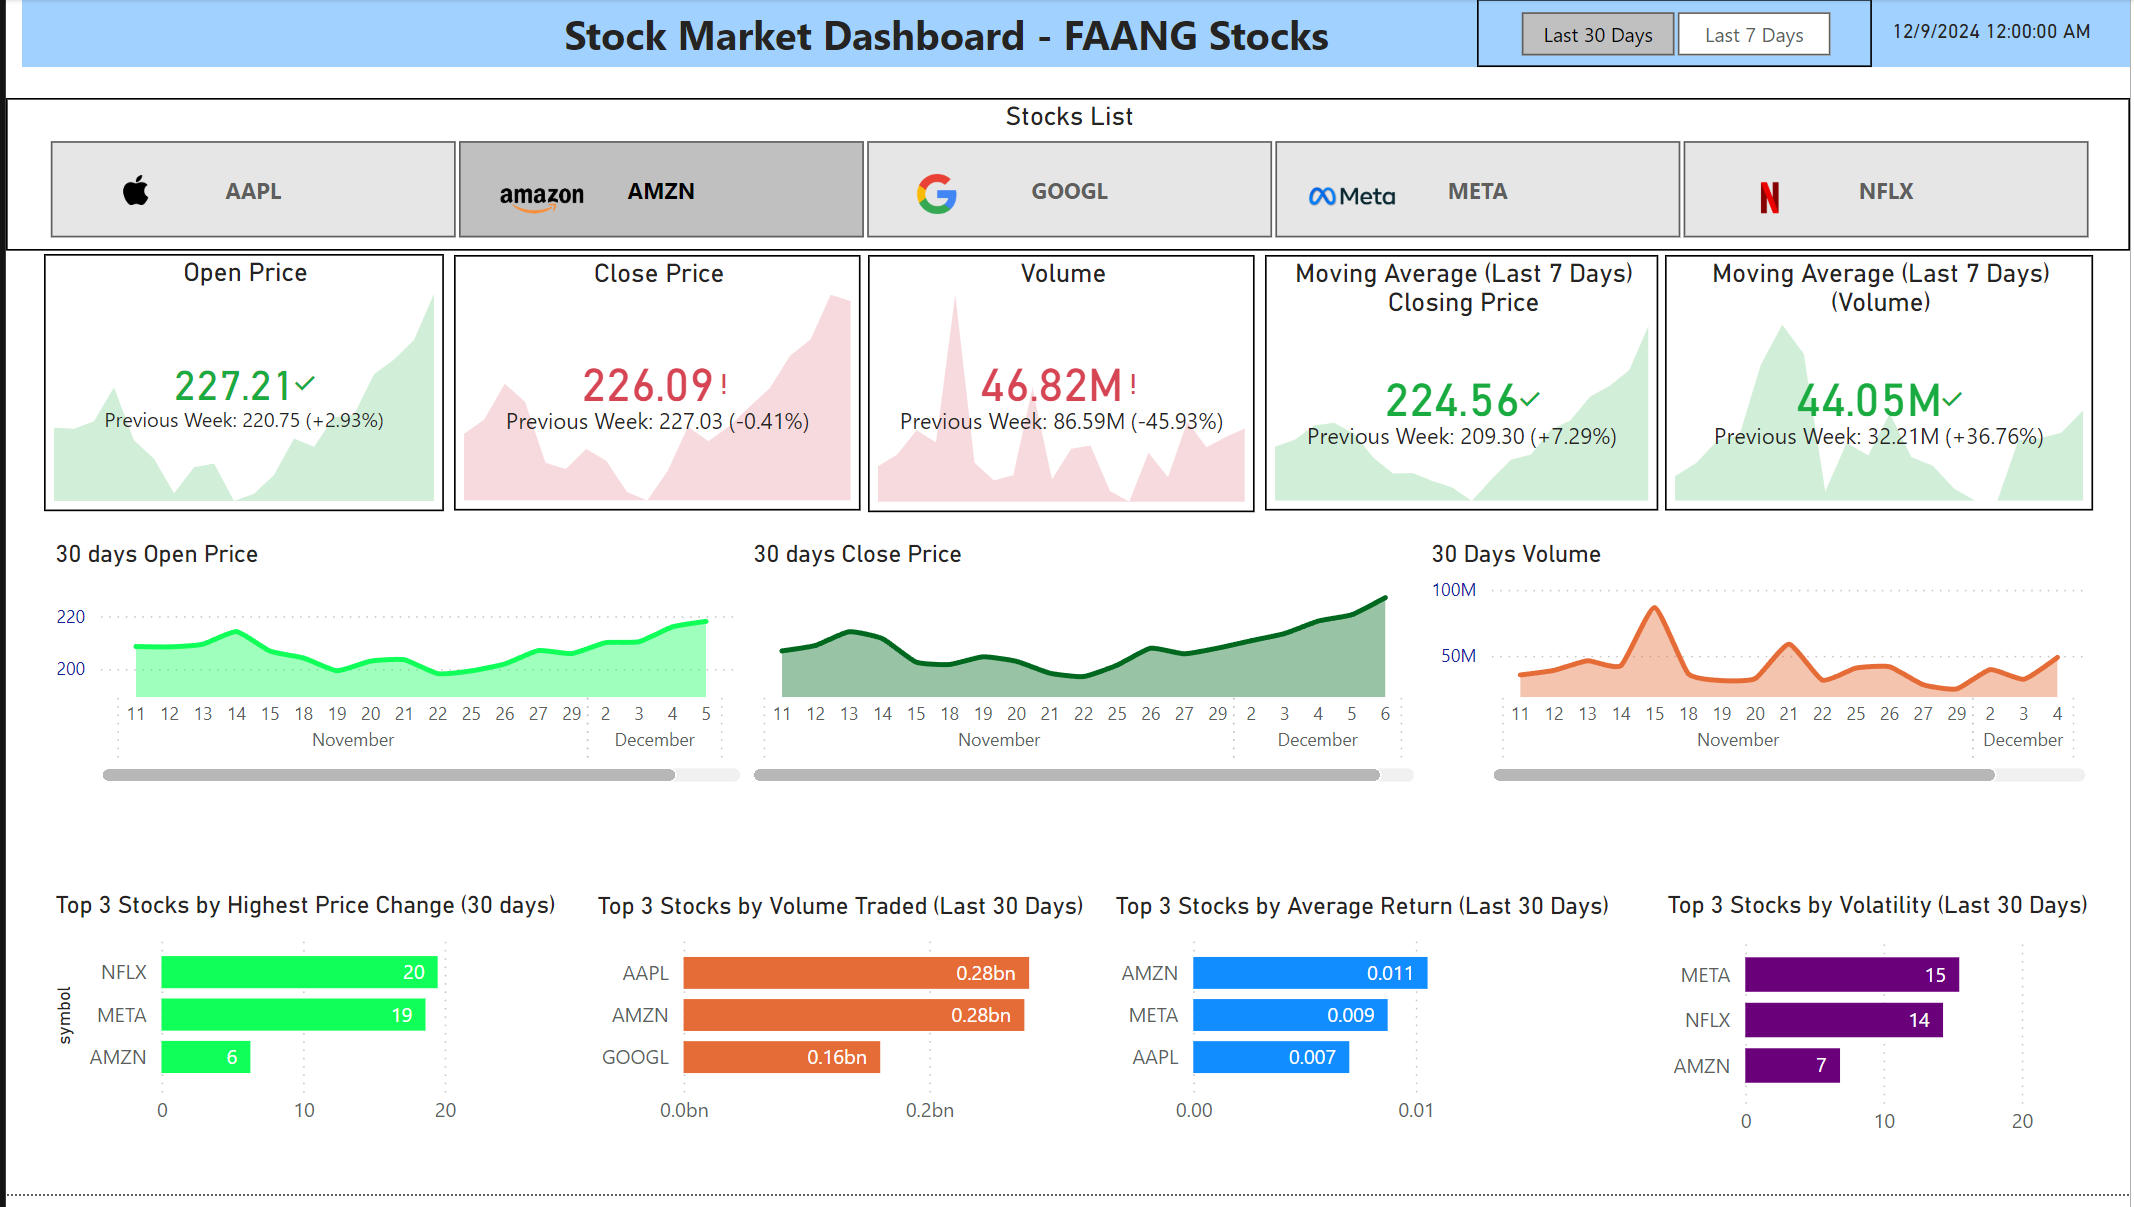

This screenshot's page, from the dashboard's own definition file:
{"tool":"powerbi","page":{"name":"Page 1","canvas":[1280,720],"ordinal":0},"visuals":[{"type":"textbox","box":[9.8,0,1122.3,41.2],"z":0},{"type":"card","title":"Last Refresh","fields":{"Values":["stock_data.Last Refresh Time"]},"box":[1113.1,0,166.9,41.2],"z":1000},{"type":"slicer","title":"Stocks List","fields":{"Values":["stock_data.symbol"]},"box":[0,59.6,1280,92.3],"z":2000},{"type":"kpi","title":"Close Price","fields":{"Indicator":["stock_data.CurrentClosePrice_SelectedStock"],"Goal":["stock_data.PreviousClosePrice_SelectedStock"],"TrendLine":["stock_data.timestamp"]},"box":[270,154,245.3,154],"z":3000},{"type":"kpi","title":"Volume","fields":{"Indicator":["stock_data.CurrentVolume_SelectedStock"],"Goal":["stock_data.PreviousVolume_SelectedStock"],"TrendLine":["stock_data.timestamp"]},"box":[519.3,154,233.3,154.7],"z":4000},{"type":"kpi","title":"Moving Average (Last 7 Days)  (Volume)","fields":{"Indicator":["stock_data.MovingAvg5Volume_Current"],"Goal":["stock_data.MovingAvg5Volume_Previous"],"TrendLine":["stock_data.timestamp"]},"box":[999.8,154.3,257.9,154.3],"z":5000},{"type":"areaChart","title":"30 days Open Price","fields":{"Category":["stock_data.timestamp.Variation.Date Hierarchy.Month","stock_data.timestamp.Variation.Date Hierarchy.Day"],"Y":["stock_data.CurrentOpenPrice_SelectedStock"]},"box":[25,326.2,422.7,150.6],"z":6000},{"type":"lineChart","title":"30 Days Volume","fields":{"Y":["stock_data.CurrentVolume_SelectedStock"],"Category":["stock_data.timestamp.Variation.Date Hierarchy.Month","stock_data.timestamp.Variation.Date Hierarchy.Day"]},"box":[853.8,326.2,404,150.6],"z":7000},{"type":"image","box":[24.7,97.3,106,34.7],"z":8000},{"type":"image","box":[264,100.7,117.3,38.7],"z":9000},{"type":"image","box":[507.3,100,106,35.3],"z":10000},{"type":"image","box":[752.7,98,116.7,41.3],"z":11000},{"type":"image","box":[1012.7,104,100.7,31.3],"z":12000},{"type":"kpi","title":"Moving Average (Last 7 Days)  Closing Price","fields":{"Indicator":["stock_data.MovingAvg5Close_Current"],"Goal":["stock_data.MovingAvg5Close_Previous"],"TrendLine":["stock_data.timestamp"]},"box":[758.7,154.3,237.4,154.3],"z":13000},{"type":"barChart","title":"Top 3 Stocks by Highest Price Change (30 days)","fields":{"Category":["stock_data.symbol"],"Y":["stock_data.HighestPriceChange"]},"box":[24.7,537.3,326.7,150],"z":14000},{"type":"clusteredBarChart","title":"Top 3 Stocks by Volume Traded (Last 30 Days)","fields":{"Category":["stock_data.symbol"],"Y":["stock_data.HighestVolumeTraded"]},"box":[351.3,538,312,149.3],"z":15000},{"type":"clusteredBarChart","title":"Top 3 Stocks by Average Return (Last 30 Days)","fields":{"Category":["stock_data.symbol"],"Y":["stock_data.AverageReturn"]},"box":[663.3,538,318,149.3],"z":16000},{"type":"clusteredBarChart","title":"Top 3 Stocks by Volatility (Last 30 Days)","fields":{"Y":["stock_data.Volatility"],"Category":["stock_data.symbol"]},"box":[996,537.3,280.7,156.7],"z":17000},{"type":"slicer","fields":{"Values":["TimeRange.Range"]},"box":[886.5,0,238.2,41.1],"z":18000},{"type":"kpi","title":"Open Price","fields":{"Indicator":["stock_data.CurrentOpenPrice_SelectedStock"],"TrendLine":["stock_data.timestamp"],"Goal":["stock_data.PreviousOpenPrice_SelectedStock"]},"box":[22.9,153.7,241.1,154.9],"z":19000},{"type":"lineChart","title":"30 days Close Price","fields":{"Category":["stock_data.timestamp.Variation.Date Hierarchy.Month","stock_data.timestamp.Variation.Date Hierarchy.Day"],"Y":["stock_data.CurrentClosePrice_SelectedStock"]},"box":[445.6,326.2,408.2,150.6],"z":20000}]}

Visuals, with their boxes in screenshot pixels (x1, y1, x2, y2), scaled from the page's 1280x720 canvas onto the 2134x1207 screenshot:
textbox: bbox(16, 0, 1887, 69)
"Last Refresh" card: bbox(1856, 0, 2133, 69)
"Stocks List" slicer: bbox(0, 100, 2133, 255)
"Close Price" kpi: bbox(450, 258, 859, 516)
"Volume" kpi: bbox(866, 258, 1255, 518)
"Moving Average (Last 7 Days)  (Volume)" kpi: bbox(1667, 259, 2097, 517)
"30 days Open Price" areaChart: bbox(42, 547, 746, 799)
"30 Days Volume" lineChart: bbox(1423, 547, 2097, 799)
image: bbox(41, 163, 218, 221)
image: bbox(440, 169, 636, 234)
image: bbox(846, 168, 1022, 227)
image: bbox(1255, 164, 1449, 234)
image: bbox(1688, 174, 1856, 227)
"Moving Average (Last 7 Days)  Closing Price" kpi: bbox(1265, 259, 1661, 517)
"Top 3 Stocks by Highest Price Change (30 days)" barChart: bbox(41, 901, 586, 1152)
"Top 3 Stocks by Volume Traded (Last 30 Days)" clusteredBarChart: bbox(586, 902, 1106, 1152)
"Top 3 Stocks by Average Return (Last 30 Days)" clusteredBarChart: bbox(1106, 902, 1636, 1152)
"Top 3 Stocks by Volatility (Last 30 Days)" clusteredBarChart: bbox(1661, 901, 2128, 1163)
slicer - TimeRange.Range: bbox(1478, 0, 1875, 69)
"Open Price" kpi: bbox(38, 258, 440, 517)
"30 days Close Price" lineChart: bbox(743, 547, 1423, 799)
